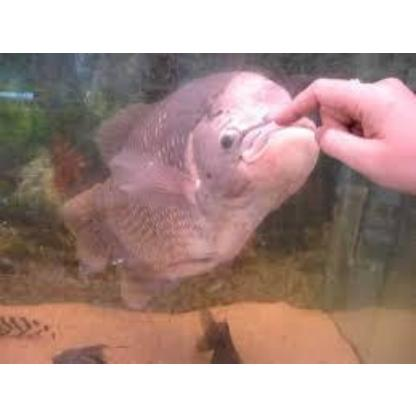gurame: (66, 61, 322, 304)
